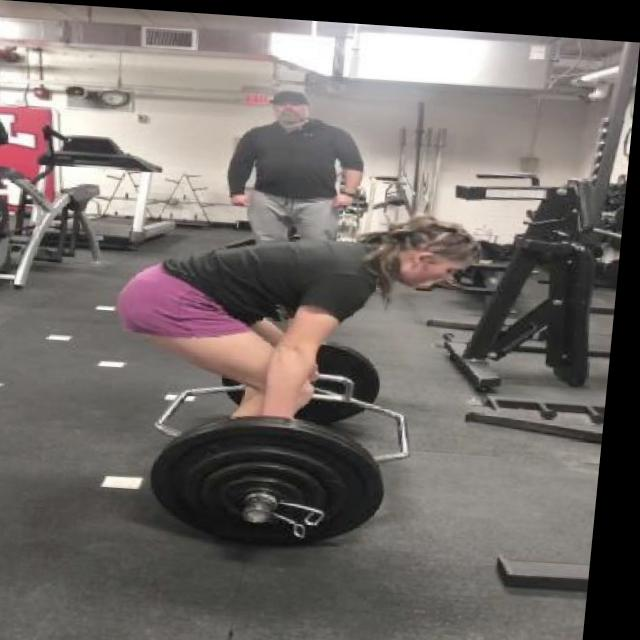barbell: (152, 406, 402, 557)
